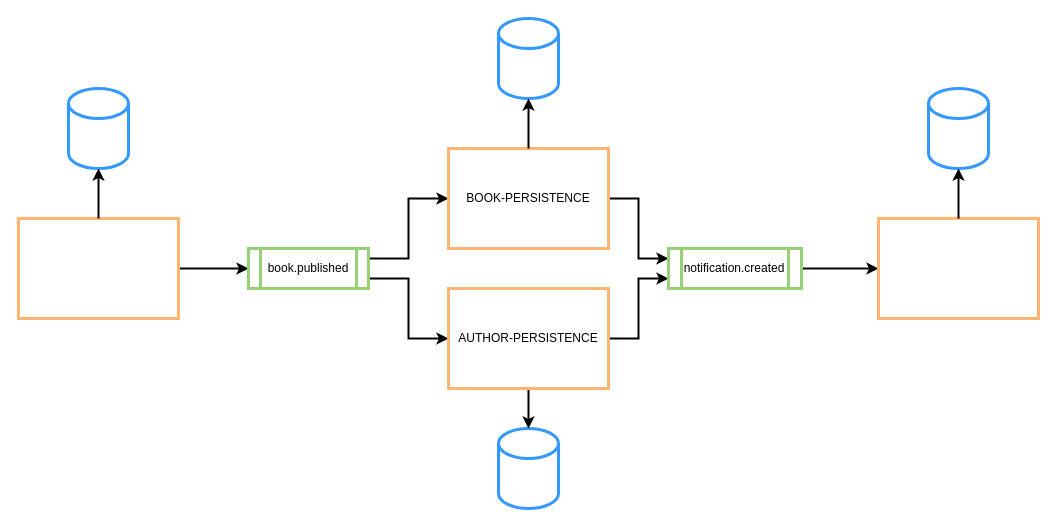
The diagram is 1057 pixels wide and 527 high, and some of its shapes have lost their labels. The shapes that lost their labels are listed below. From the top down, each one's centre as x and y in pixels, then its label:
At [98,268]: "PUBLISHER-SERVICE".
At [958,268]: "NOTIFICATION-SERVICE".
